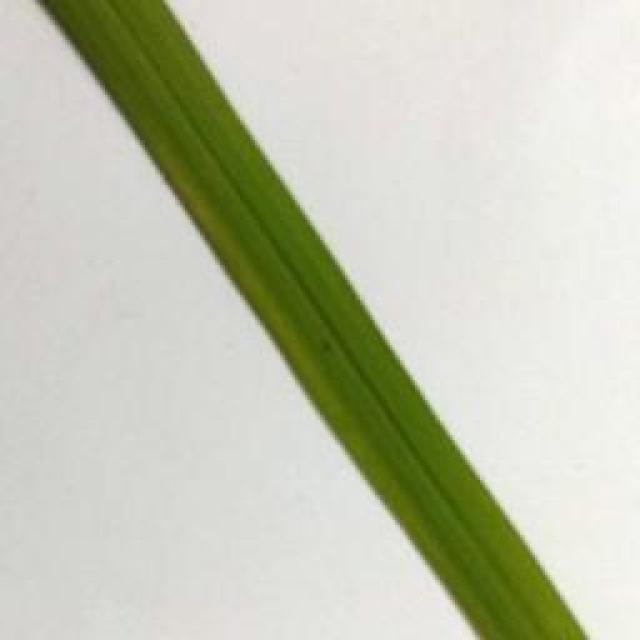Healthy-Plant: (45, 3, 586, 640)
